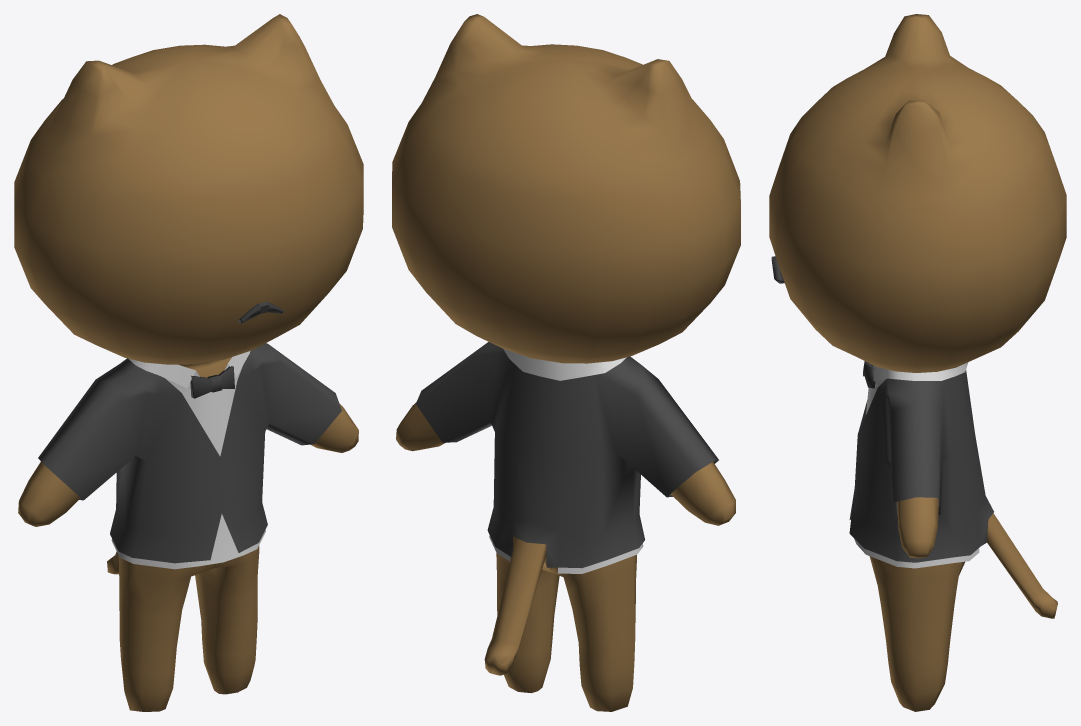
File: CatShopeKeeper.fbx
3 views of the same model, side by side, from view 1: azimuth 30°, elevation 25°; view 2: azimuth 150°, elevation 25°; view 3: azimuth 270°, elevation 25° (orthographic). The views are drawn at different scales.
Visible parts, largest first — view 1: Cat_Shopkeeper, CatTux1, cat_low6, pCube1; view 2: Cat_Shopkeeper, CatTux1, cat_low6; view 3: Cat_Shopkeeper, CatTux1, cat_low6.
Boxes of the visible parts, x1,y1,x2,y2 form: Cat_Shopkeeper: [14, 14, 363, 711]; CatTux1: [38, 343, 341, 563]; cat_low6: [111, 351, 265, 569]; pCube1: [190, 366, 234, 398]; Cat_Shopkeeper: [392, 14, 740, 711]; CatTux1: [416, 342, 718, 568]; cat_low6: [489, 348, 643, 573]; Cat_Shopkeeper: [769, 14, 1066, 711]; CatTux1: [849, 370, 993, 562]; cat_low6: [854, 362, 979, 568].
Size of the model in its own units: 0.6366 by 1.2 by 0.5128.
